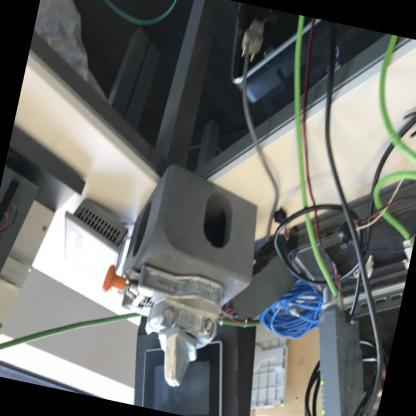CornerCasting: (122, 154, 274, 295)
Twistlock: (80, 252, 233, 397)
